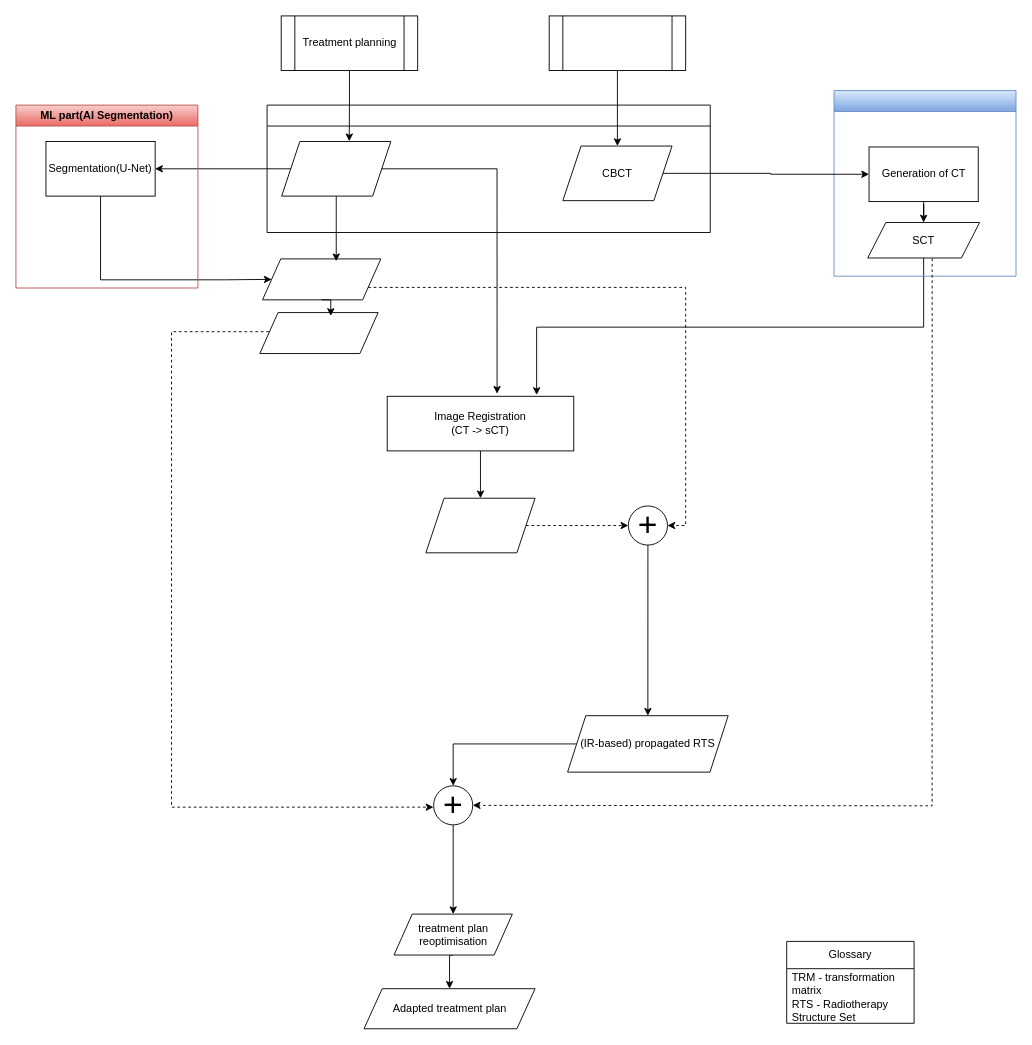
The diagram is 1032 pixels wide and 1045 high, and some of its shapes have lost their labels. The shapes that lost their labels are listed below. From the top down, each one's box as (x1, y1, x2, y2) in pixels, then its label:
(548, 15, 686, 71): Daily treatment fraction delivery
(281, 141, 391, 196): (planning) CT
(266, 104, 710, 233): Modalities
(833, 90, 1016, 276): ML part(Synthetic CT generation)
(262, 258, 381, 300): RTS
(259, 312, 378, 354): Treatment plan
(425, 497, 535, 553): TRM (CT -> sCT)
